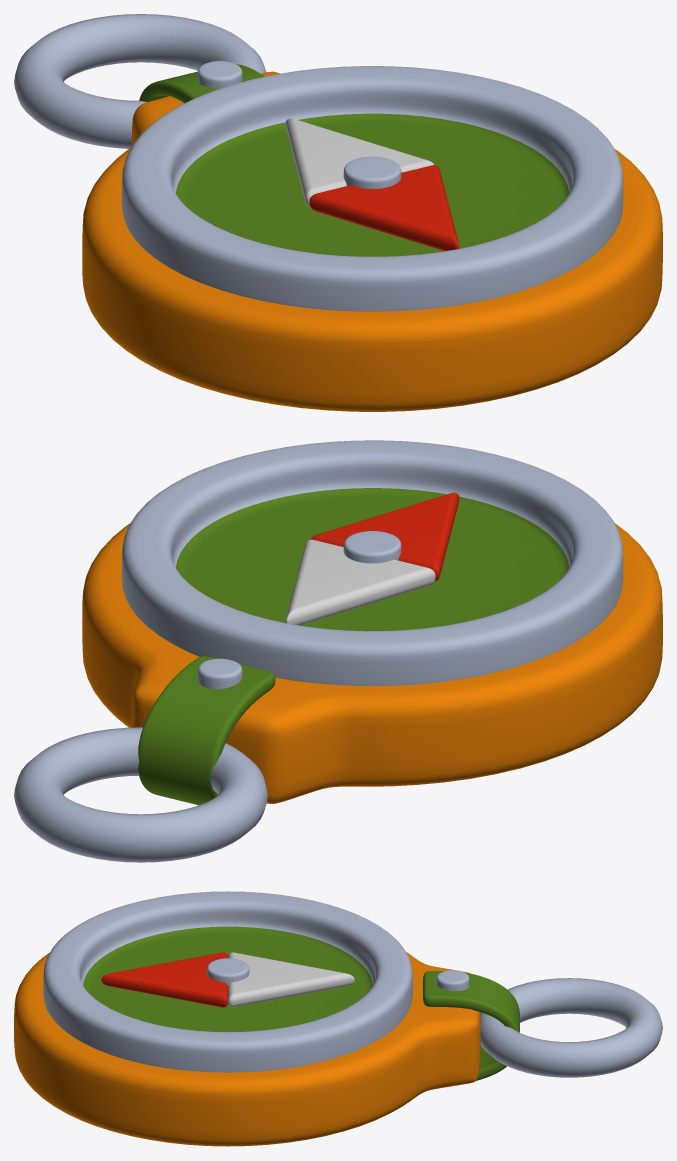
Rendered from Compass.gltf.
The picture shows the model from 3 angles, top to bottom: view 1: azimuth 30°, elevation 25°; view 2: azimuth 150°, elevation 25°; view 3: azimuth 270°, elevation 25°; orthographic projection. The views are drawn at different scales.
Visible parts, largest first — view 1: Cylinder.060, Cylinder.059, BezierCircle.002, Plane.015, Cylinder.062, Cube.016, Cylinder.061; view 2: Cylinder.060, Cylinder.059, BezierCircle.002, Plane.015, Cube.016, Cylinder.062, Cylinder.061; view 3: Cylinder.060, Cylinder.059, BezierCircle.002, Plane.015, Cube.016, Cylinder.062, Cylinder.061.
Boxes of the visible parts, x1,y1,x2,y2 form: Cylinder.060: [121, 66, 623, 311]; Cylinder.059: [82, 71, 662, 411]; BezierCircle.002: [14, 14, 266, 148]; Plane.015: [285, 118, 459, 251]; Cylinder.062: [343, 156, 401, 188]; Cube.016: [139, 64, 264, 103]; Cylinder.061: [197, 61, 242, 88]; Cylinder.060: [122, 440, 623, 685]; Cylinder.059: [82, 488, 662, 803]; BezierCircle.002: [14, 727, 267, 862]; Plane.015: [285, 492, 459, 625]; Cube.016: [138, 656, 275, 805]; Cylinder.062: [343, 531, 401, 563]; Cylinder.061: [197, 658, 242, 689]; Cylinder.060: [43, 891, 412, 1072]; Cylinder.059: [14, 952, 480, 1146]; BezierCircle.002: [480, 978, 662, 1077]; Plane.015: [101, 952, 354, 1007]; Cube.016: [423, 971, 519, 1080]; Cylinder.062: [206, 958, 249, 986]; Cylinder.061: [436, 970, 469, 990].
Size of the model in its own units: 1.44 by 0.4201 by 2.18.
